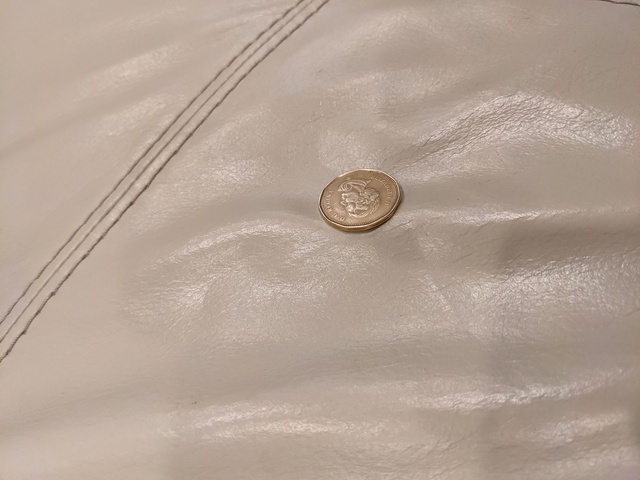loonie: (316, 163, 408, 235)
